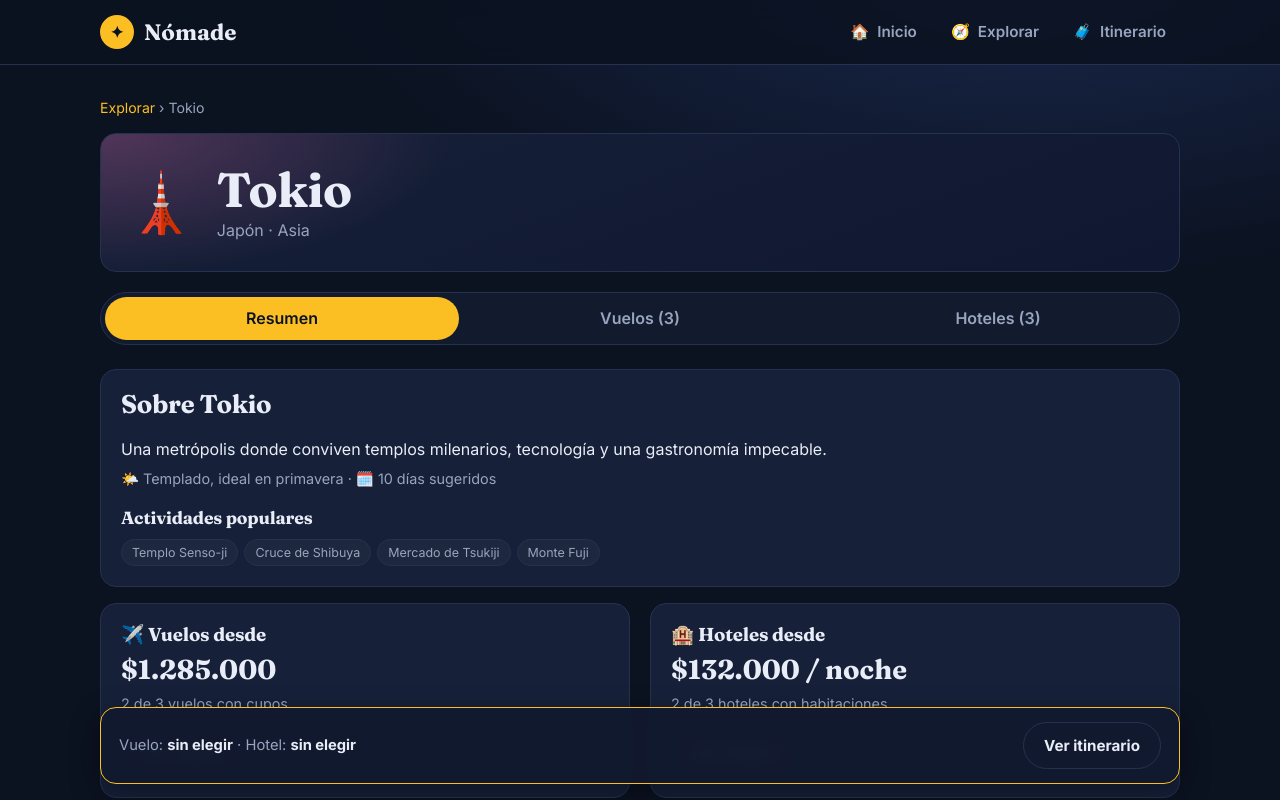
API GraphQL mock + rutas anidadas › navega a vuelos y hoteles con precios, fechas y disponibilidad
expect the heading "✈️ Vuelos desde" is shown: met, box [121,623,266,646]
Click the link "Vuelos (3)".
click(640, 318)  # box [600,308,680,328]
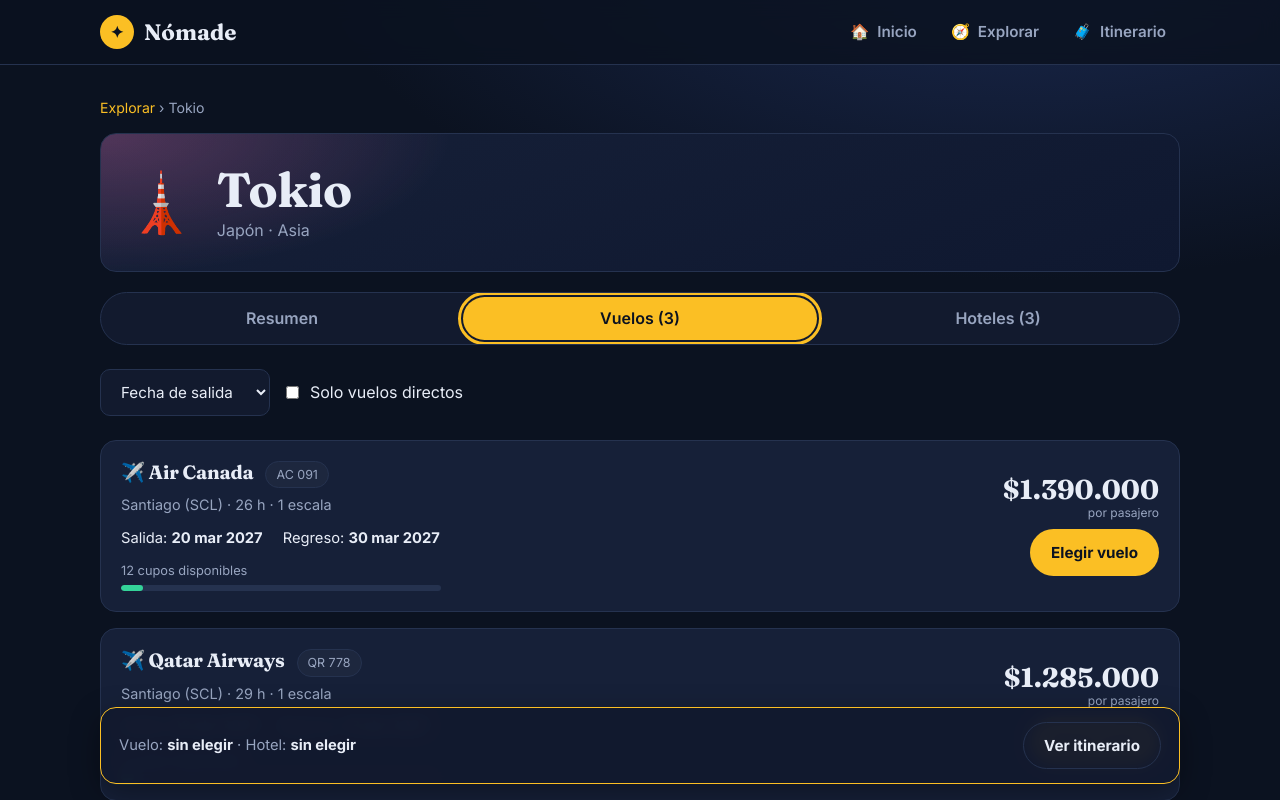
expect the text "4 cupos disponibles" is shown: met, box [121,750,243,770]
expect the heading "✈️ Qatar Airways" is shown: met, box [121,649,284,671]
expect the text "QR 778" is shown: met, box [296,649,362,676]
Click the link "Hoteles (3)".
click(998, 318)  # box [955,308,1041,328]
(page scrolled)
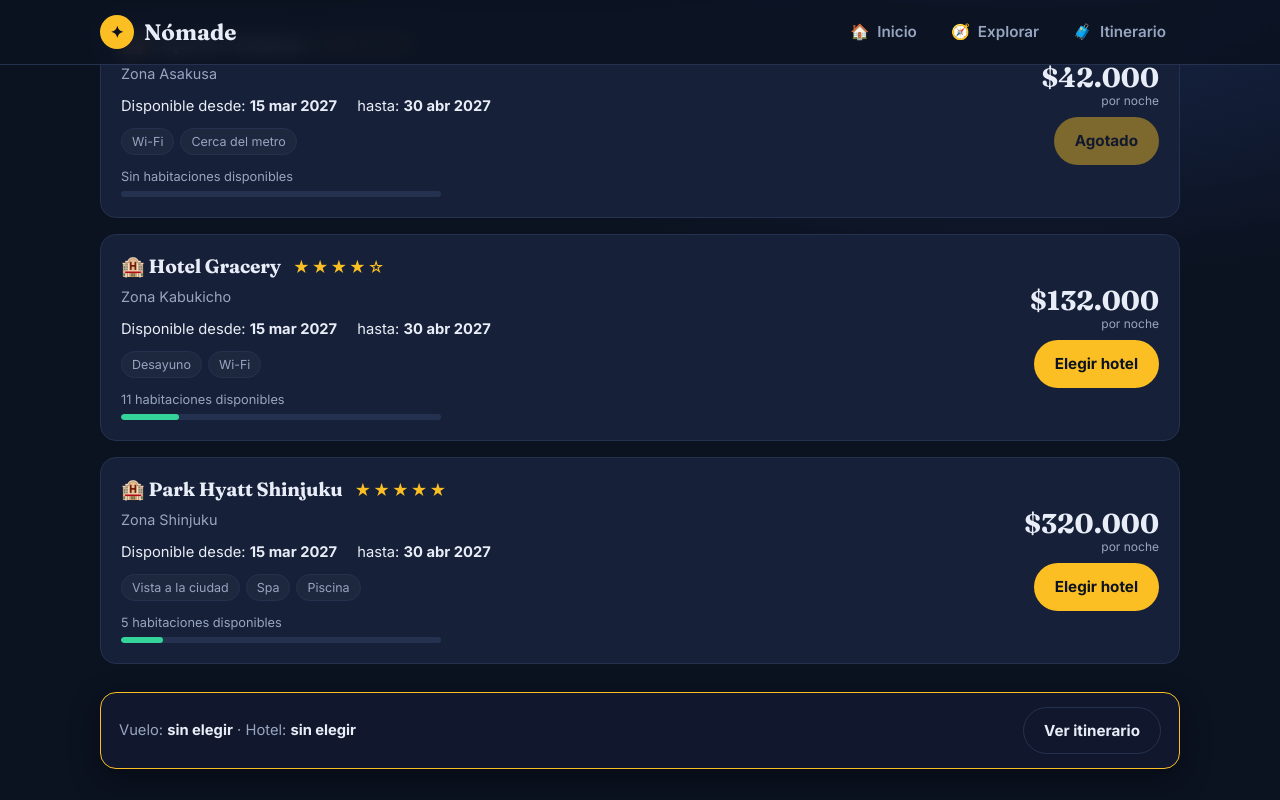
expect the heading "🏨 Park Hyatt Shinjuku" is shown: met, box [121,478,342,500]
expect the text "11 habitaciones disponibles" is shown: met, box [121,390,285,410]
